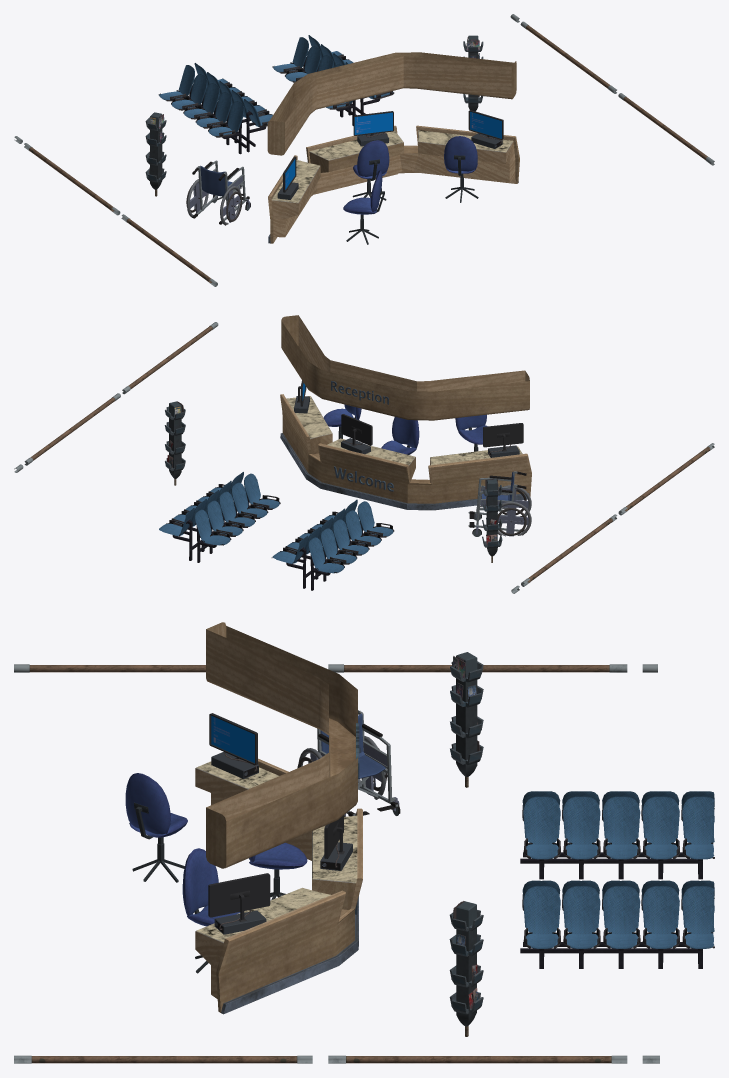
File: reception_furniture.glb
3 views of the same model, one above another, from view 1: azimuth 30°, elevation 25°; view 2: azimuth 150°, elevation 25°; view 3: azimuth 270°, elevation 25° (orthographic). The views are drawn at different scales.
Visible parts, largest first — view 1: reception_Desk_Wood, reception_Modular_props1, reception_Wheelchair1, reception_Desk_Material, reception_Modular_props2; view 2: reception_Desk_Wood, reception_Modular_props1, reception_Desk_Material, reception_Modular_props2, reception_Wheelchair1; view 3: reception_Modular_props1, reception_Desk_Wood, reception_Modular_props2, reception_Desk_Material, reception_Wheelchair1.
Part boxes in pixels (x1,y1,x2,y2): reception_Desk_Wood: (267, 52, 519, 243); reception_Modular_props1: (14, 14, 714, 286); reception_Wheelchair1: (186, 160, 250, 225); reception_Desk_Material: (268, 130, 518, 243); reception_Modular_props2: (145, 35, 483, 196); reception_Desk_Wood: (280, 315, 531, 503); reception_Modular_props1: (14, 322, 714, 593); reception_Desk_Material: (280, 381, 529, 510); reception_Modular_props2: (164, 401, 502, 562); reception_Wheelchair1: (468, 471, 531, 536); reception_Modular_props1: (14, 664, 714, 1063); reception_Desk_Wood: (195, 622, 362, 1012); reception_Modular_props2: (449, 652, 483, 1036); reception_Desk_Material: (195, 723, 360, 1014); reception_Wheelchair1: (297, 710, 400, 816).
Bounding box in the file's own units: 11.69 × 2.72 × 8.79.
Materials: 6 (6 with a texture image).
